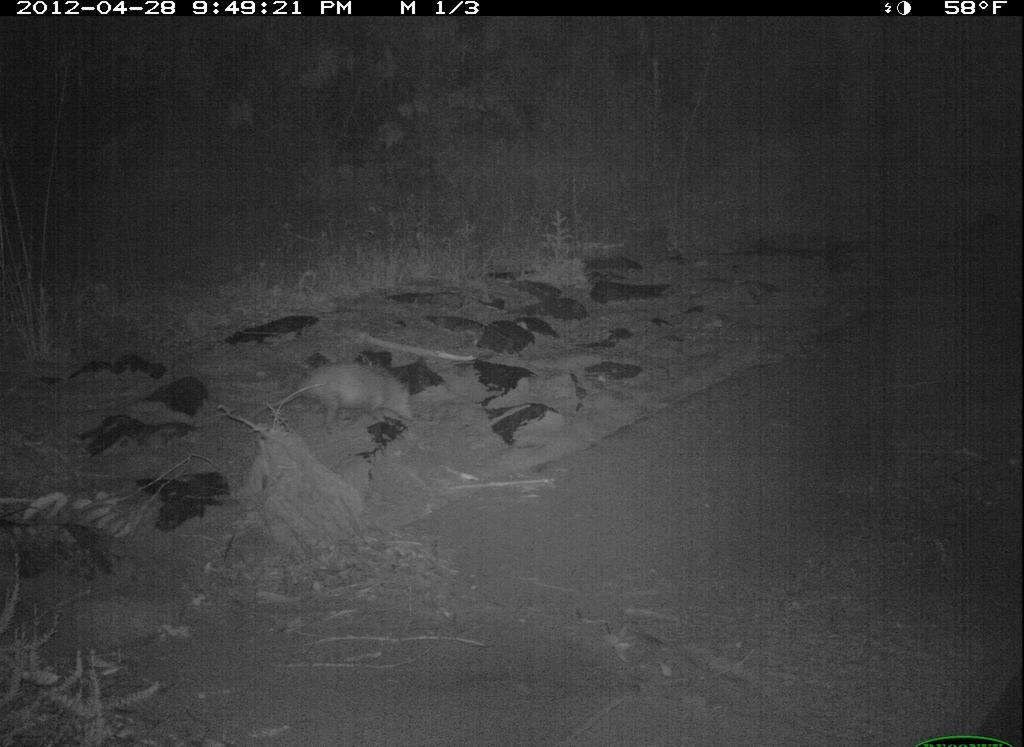opossum: (243, 355, 439, 435)
